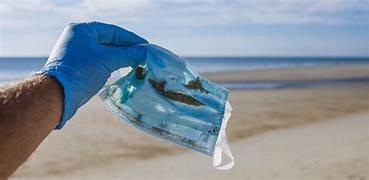Glove: (37, 22, 146, 128)
Mask: (100, 44, 232, 168)
